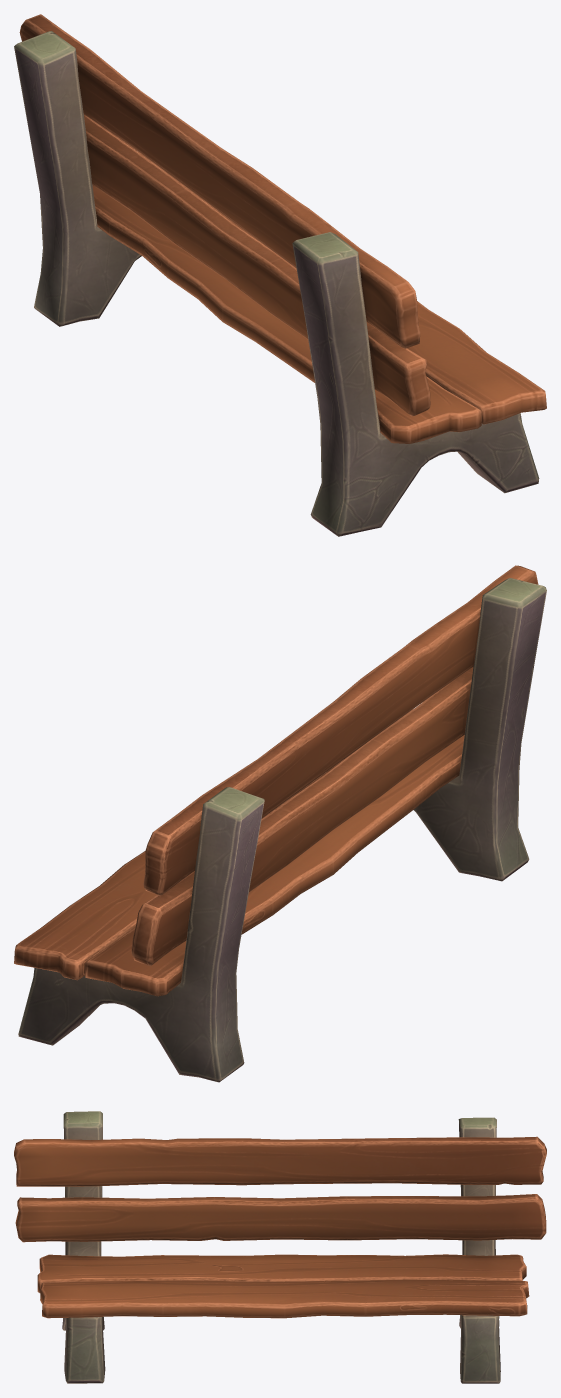
File: stylized_bench.glb
3 renders of one model, top to bottom at view 1: azimuth 30°, elevation 25°; view 2: azimuth 150°, elevation 25°; view 3: azimuth 270°, elevation 25°, orthographic. The views are drawn at different scales.
Visible parts, largest first — view 1: Legs_low, Back_low, Saddle_low; view 2: Legs_low, Back_low, Saddle_low; view 3: Back_low, Saddle_low, Legs_low.
Part boxes in pixels (x1=…): Legs_low: x1=14, y1=31, x2=539, y2=536; Back_low: x1=19, y1=14, x2=430, y2=416; Saddle_low: x1=92, y1=185, x2=546, y2=443; Legs_low: x1=18, y1=578, x2=546, y2=1082; Back_low: x1=131, y1=565, x2=538, y2=966; Saddle_low: x1=14, y1=709, x2=464, y2=996; Back_low: x1=14, y1=1136, x2=546, y2=1242; Saddle_low: x1=37, y1=1254, x2=529, y2=1318; Legs_low: x1=62, y1=1111, x2=500, y2=1383.
Size of the model in its own units: 1.31 by 1.58 by 3.83.
1 material, 1 textured.
